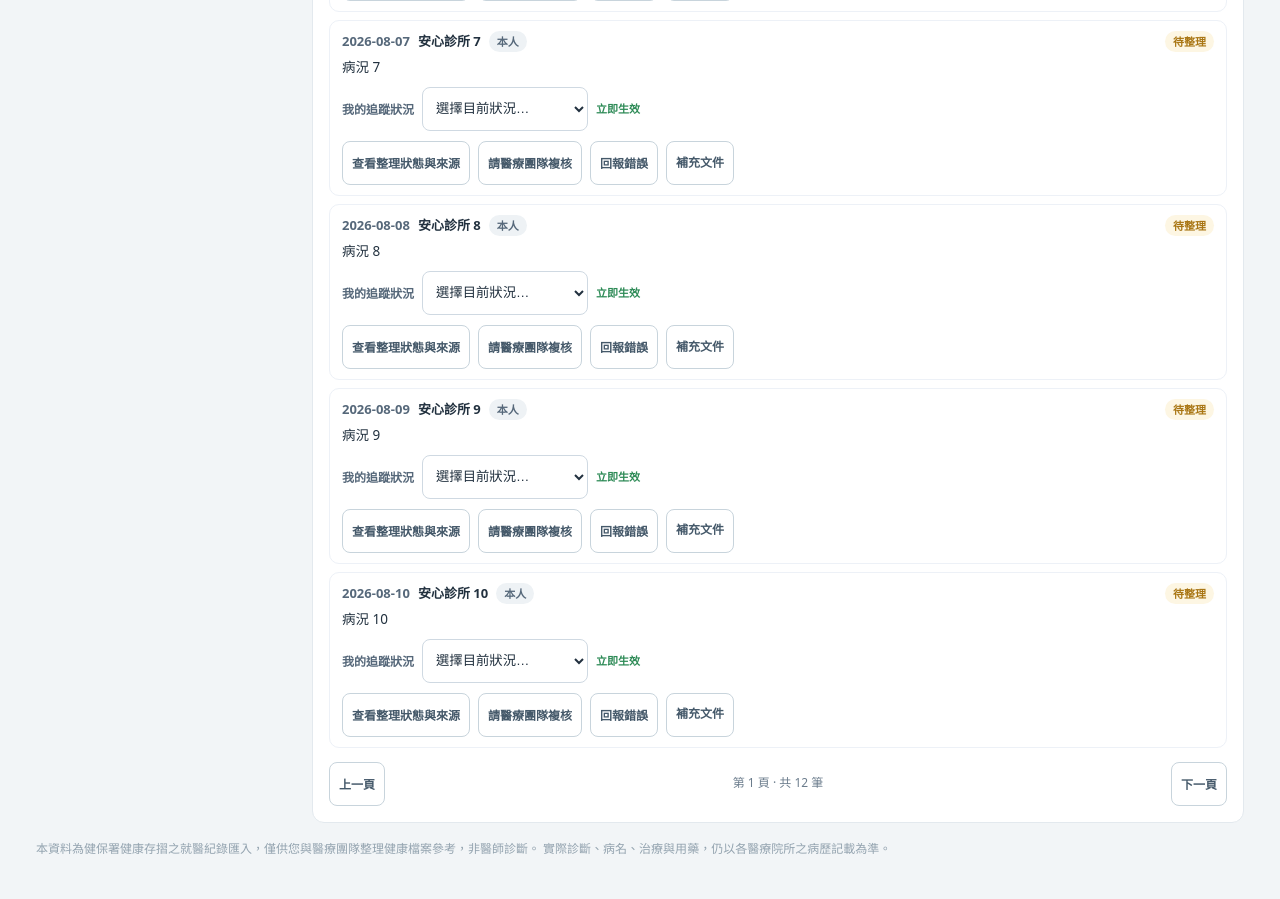
NhiImportPage bounded records list › requests ten rows, caps legacy responses, supports search, and pages without an unbounded map
The image size is (1280, 899).
(page scrolled)
Expected: the text "病況 10" is shown, [342,610,388,628]
Expected: the text "病況 11" is not shown
Click the button "下一頁": [1199, 784] box [1171,762,1227,806]
(page scrolled)
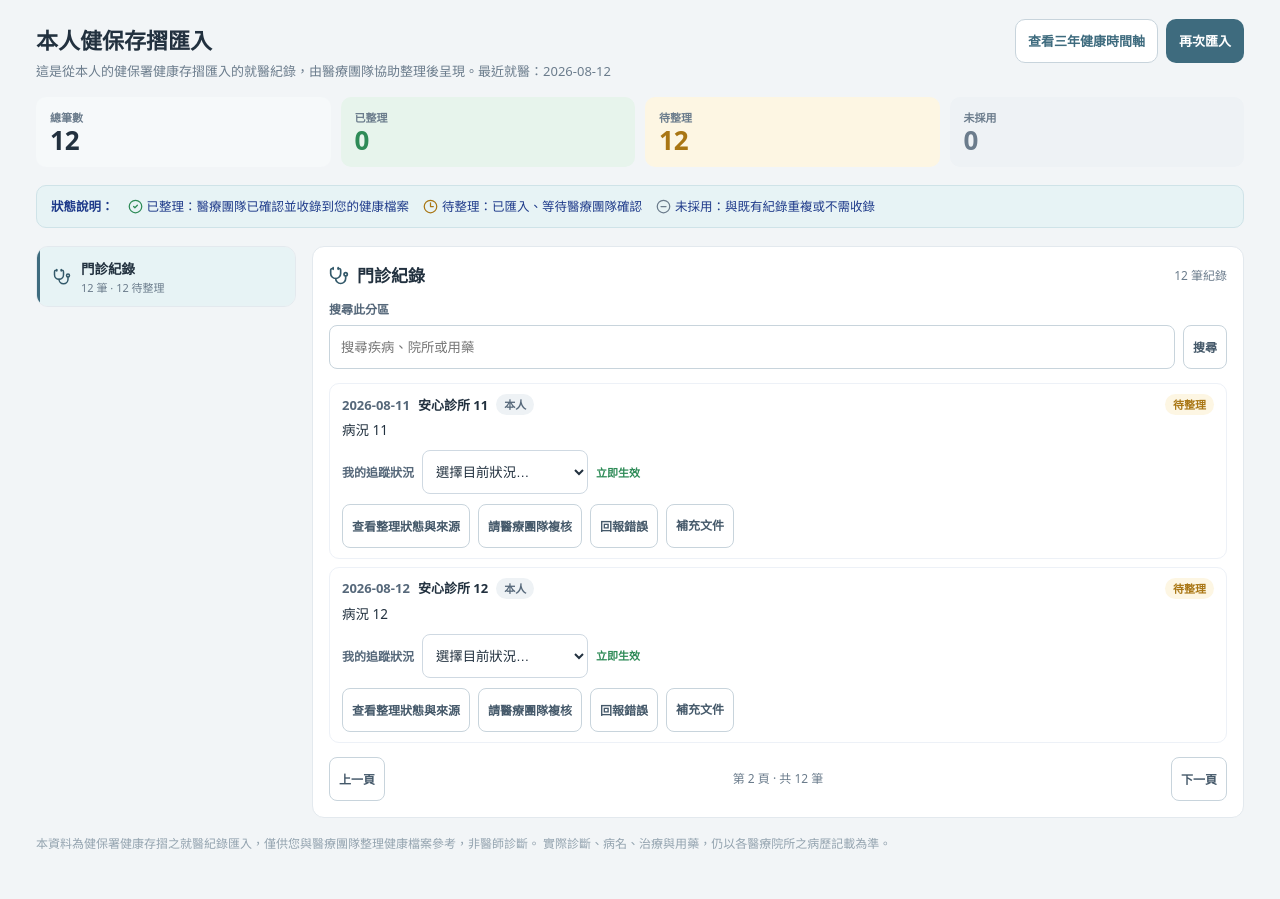
Expected: the text "病況 11" is shown, [342,421,388,439]
Expected: the text "病況 12" is shown, [342,605,388,623]
In the field with placeholder "搜尋疾病、院所或用藥": [752, 347] box [329,325,1175,369], type "病況 12"
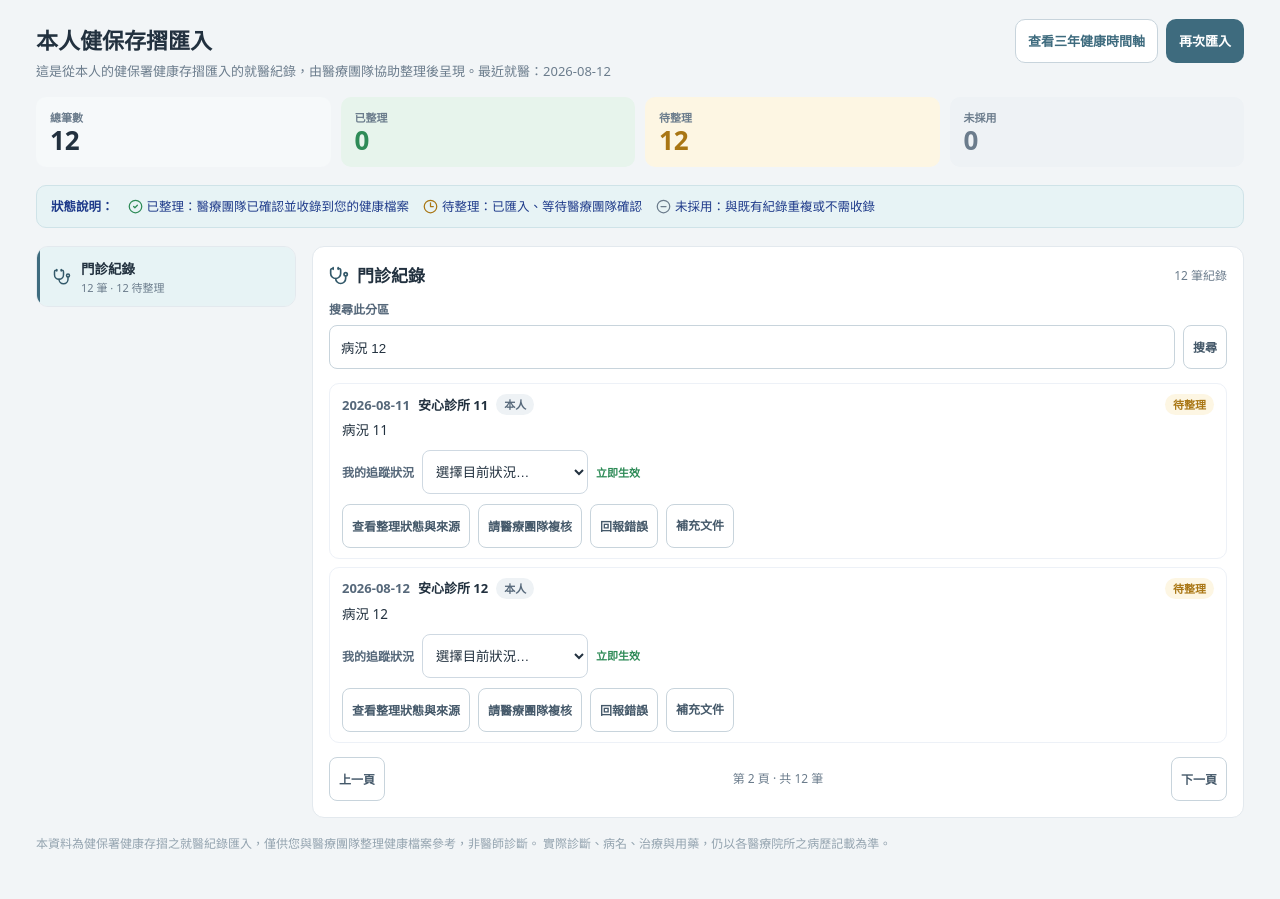
Click the button "搜尋": [1205, 347] box [1183,325,1227,369]
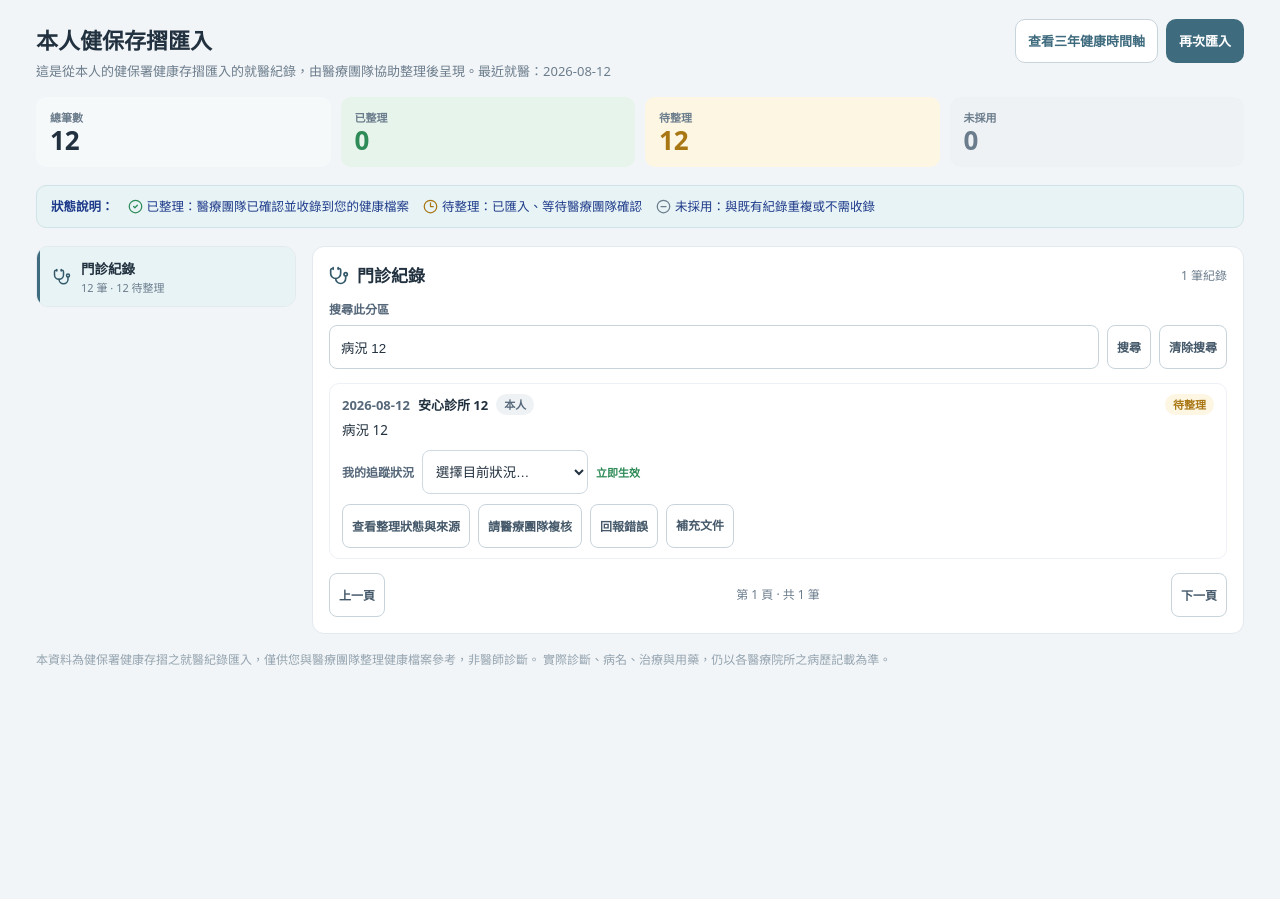
Expected: the text "病況 12" is shown, [342,421,388,439]
Expected: the text "病況 11" is gone
